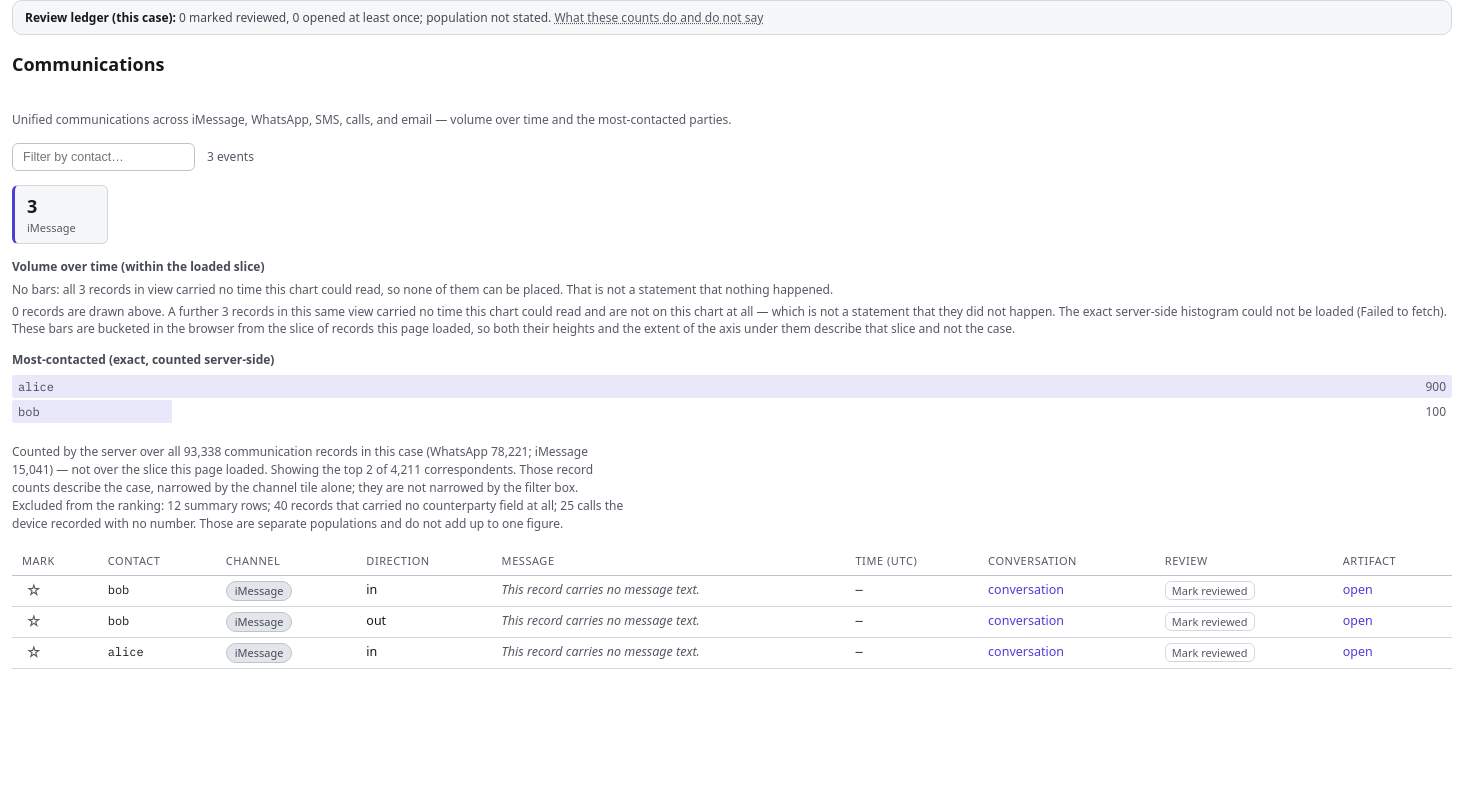
Scenario: CommsPage most-contacted ranking (LIVE-024) › falls back to the labelled slice ranking under a single-contact filter
What coordinates should you click on to do the following:
click the button with class "rv-top-row" showing "alice 900"
I would click on:
 (732, 386)
Its box is [12,375,1452,398].
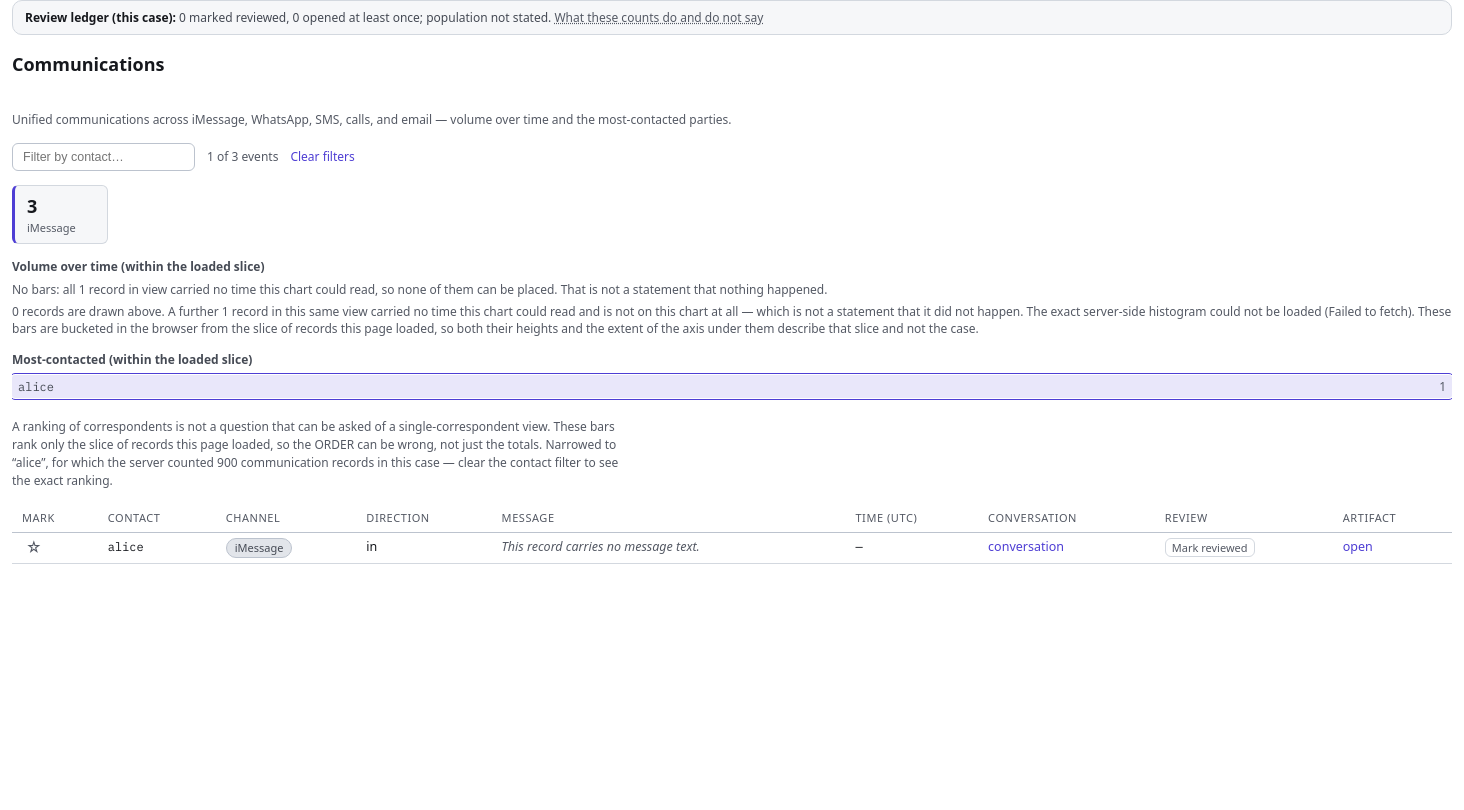
Check: the text with class "rv-top-title" shows "within the loaded slice", box [12,351,252,368]
Check: the element with class "rv-top-title" no longer shows "exact"
Check: the text with class "rv-rank-note" shows "900", box [46,454,440,471]
